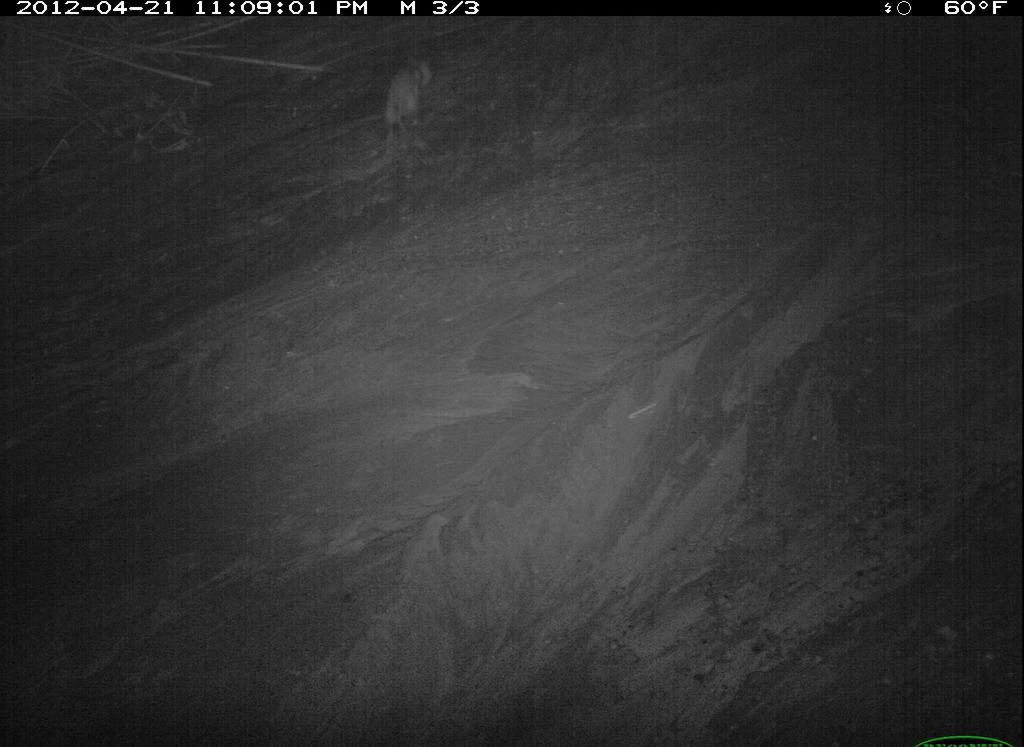opossum: (754, 98, 877, 316)
